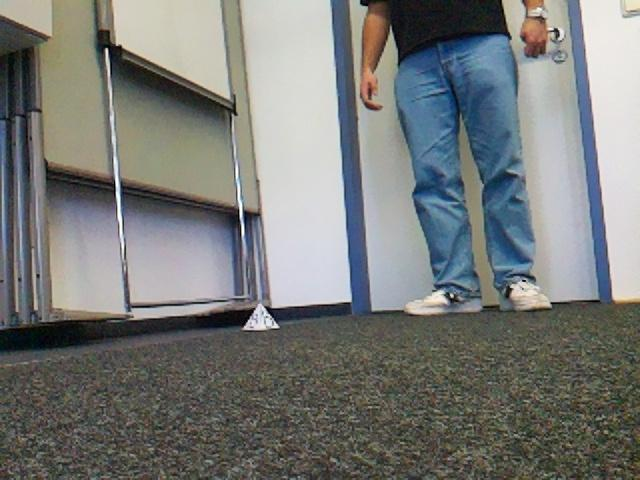B: (245, 301, 279, 327)
